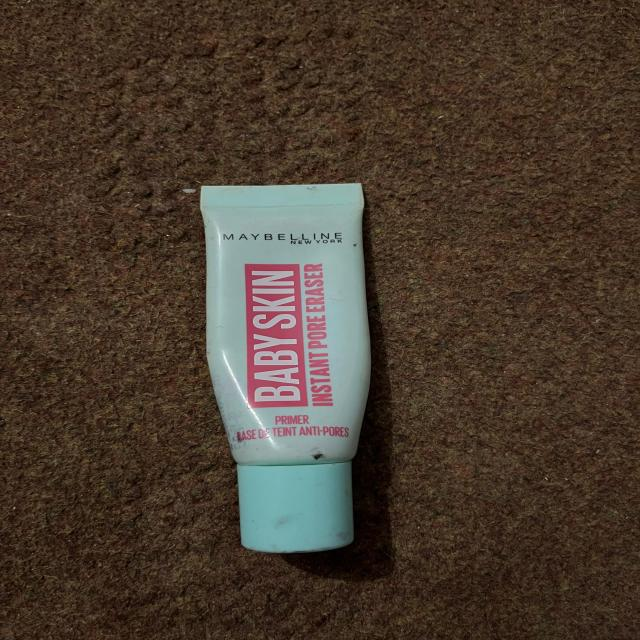primer: (174, 166, 397, 570)
